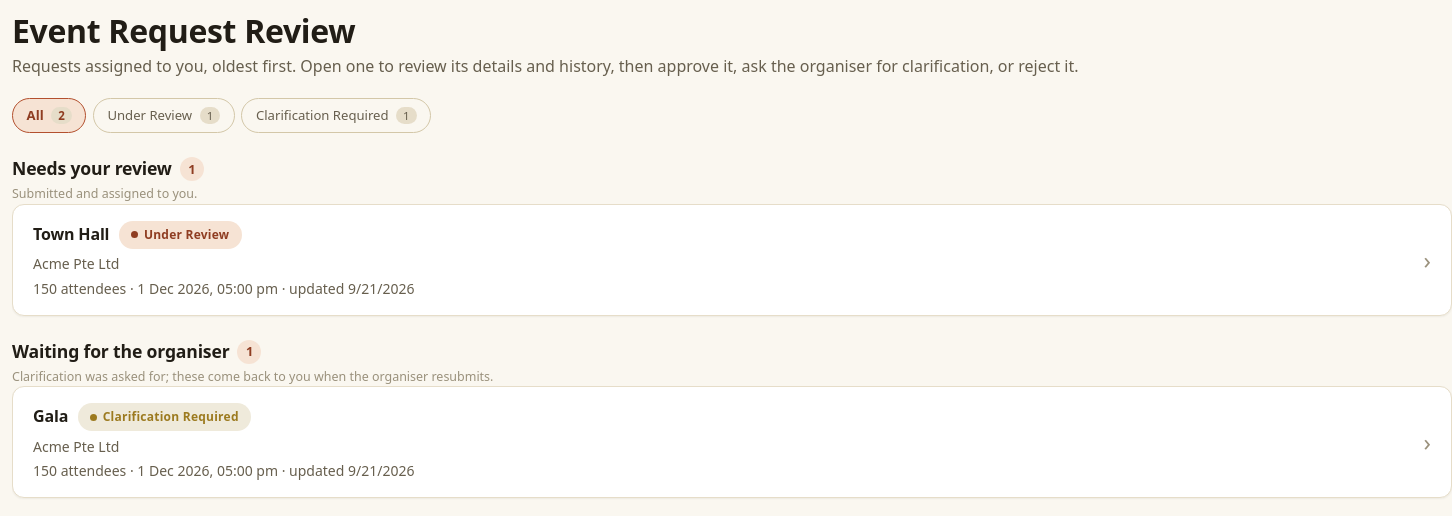
ReviewQueuePage status filter (EC-NEW2) › filters the queue by the shared status
Click the button "Clarification Required 1".
click(336, 116)  # box [241,98,431,133]
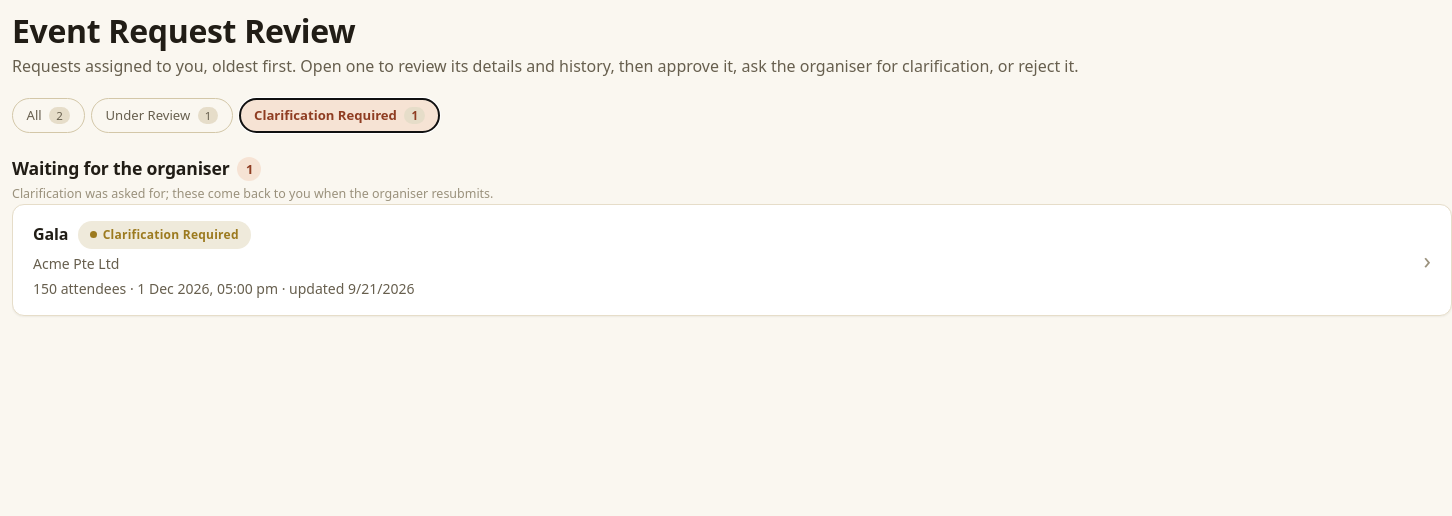
Expected: the heading "Gala" is shown, [33,224,68,245]
Expected: the link "Town Hall" is gone
Click the button "All 2".
click(48, 116)  # box [12,98,84,133]
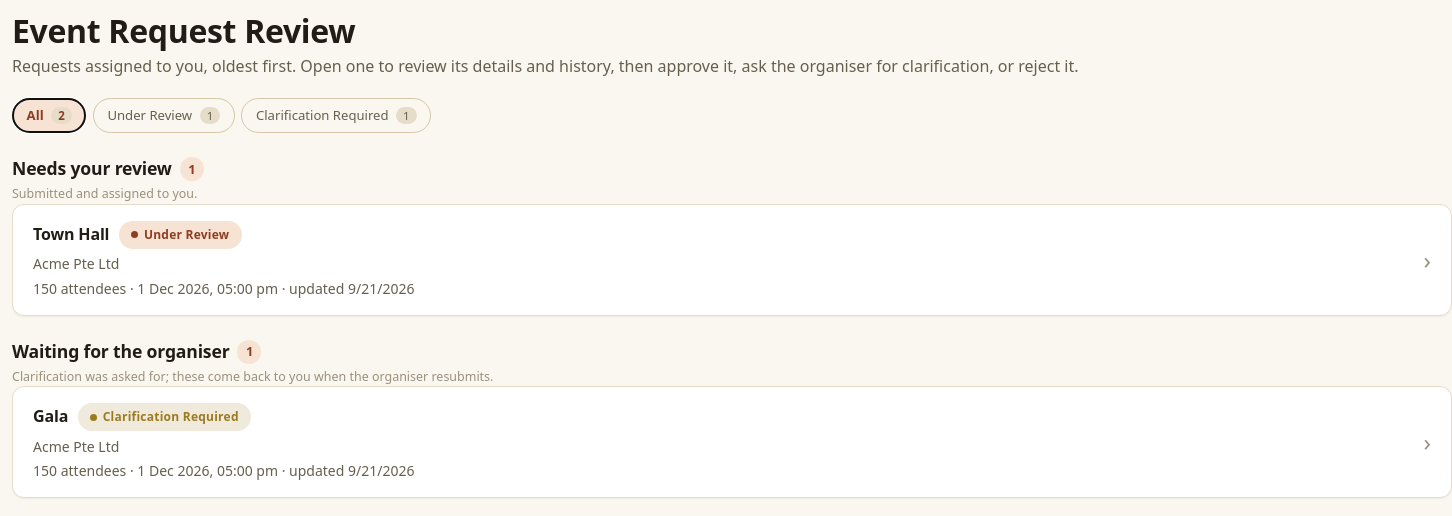
Expected: the heading "Town Hall" is shown, [33,224,109,245]
